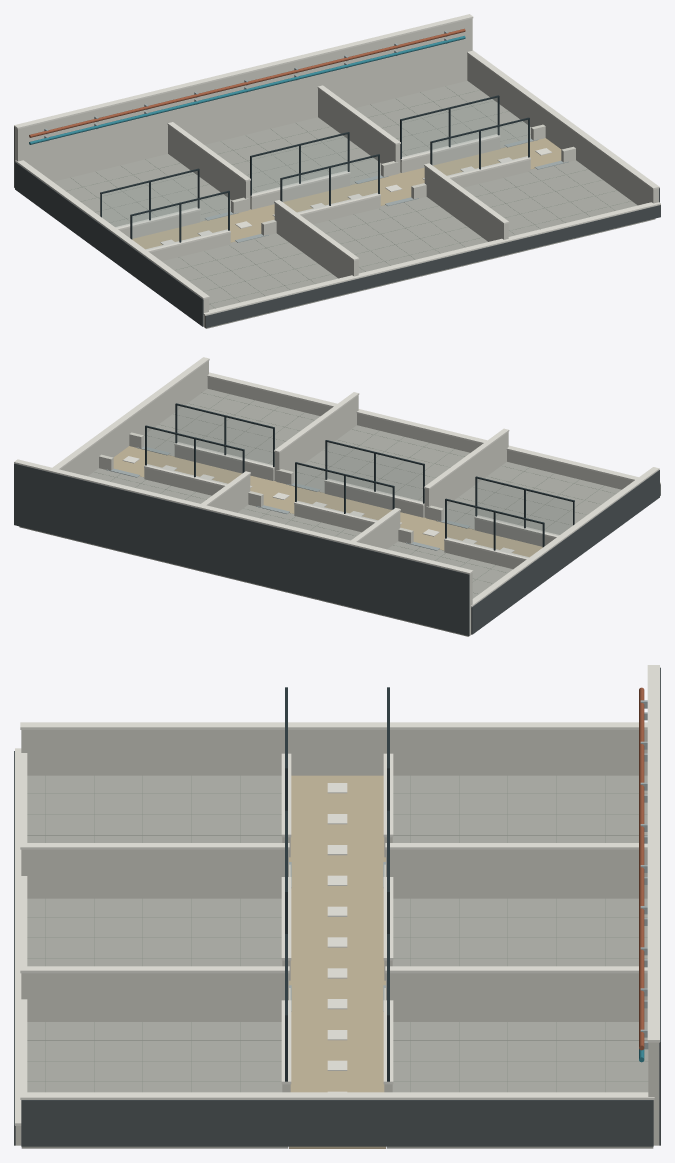
The model's file is building-shell.glb.
The picture shows the model from 3 angles, top to bottom: view 1: azimuth 30°, elevation 25°; view 2: azimuth 150°, elevation 25°; view 3: azimuth 270°, elevation 25°; orthographic projection. The views are drawn at different scales.
Visible parts, largest first — view 1: Warm mineral plaster, Warm grey epoxy, Low iron partition glass, Honed limestone edges, Graphite facade, Sandstone corridor, Floor joints, Powder coated graphite, Chilled water / blue, Return water / terracotta, Brushed stainless steel; view 2: Graphite facade, Warm grey epoxy, Warm mineral plaster, Low iron partition glass, Honed limestone edges, Sandstone corridor, Powder coated graphite, Floor joints, Brushed stainless steel; view 3: Warm grey epoxy, Warm mineral plaster, Honed limestone edges, Graphite facade, Sandstone corridor, Floor joints, Powder coated graphite, Return water / terracotta, Brushed stainless steel.
Boxes of the visible parts, left/top/right/bottom form: Warm mineral plaster: left=14, top=18, right=658, bottom=327; Warm grey epoxy: left=53, top=81, right=655, bottom=328; Low iron partition glass: left=102, top=98, right=527, bottom=249; Honed limestone edges: left=14, top=14, right=660, bottom=315; Graphite facade: left=14, top=127, right=660, bottom=327; Sandstone corridor: left=132, top=138, right=561, bottom=249; Floor joints: left=66, top=86, right=631, bottom=308; Powder coated graphite: left=100, top=95, right=529, bottom=242; Chilled water / blue: left=29, top=36, right=465, bottom=144; Return water / terracotta: left=29, top=28, right=465, bottom=137; Brushed stainless steel: left=44, top=31, right=568, bottom=242; Graphite facade: left=14, top=463, right=660, bottom=635; Warm grey epoxy: left=19, top=388, right=621, bottom=636; Warm mineral plaster: left=60, top=361, right=660, bottom=635; Low iron partition glass: left=147, top=406, right=572, bottom=557; Honed limestone edges: left=14, top=357, right=660, bottom=607; Sandstone corridor: left=113, top=446, right=542, bottom=557; Powder coated graphite: left=145, top=403, right=574, bottom=550; Floor joints: left=94, top=392, right=614, bottom=593; Brushed stainless steel: left=106, top=446, right=470, bottom=550; Warm grey epoxy: left=21, top=775, right=653, bottom=1148; Warm mineral plaster: left=15, top=730, right=659, bottom=1145; Honed limestone edges: left=15, top=665, right=659, bottom=1125; Graphite facade: left=14, top=667, right=660, bottom=1146; Sandstone corridor: left=289, top=775, right=385, bottom=1148; Floor joints: left=27, top=776, right=647, bottom=1091; Powder coated graphite: left=285, top=687, right=389, bottom=1081; Return water / terracotta: left=639, top=687, right=644, bottom=1050; Brushed stainless steel: left=289, top=700, right=648, bottom=1049.
Size of the model in its own units: 18.3 by 2.52 by 13.3.
